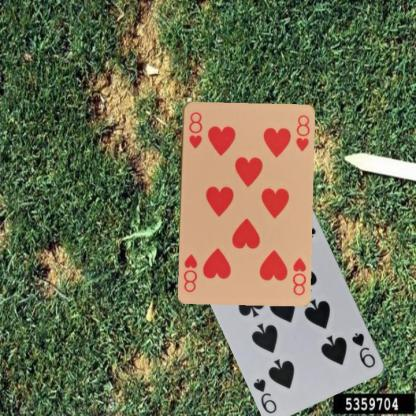8h: (289, 254, 308, 296), (186, 109, 204, 150)
9s: (349, 330, 377, 369)
